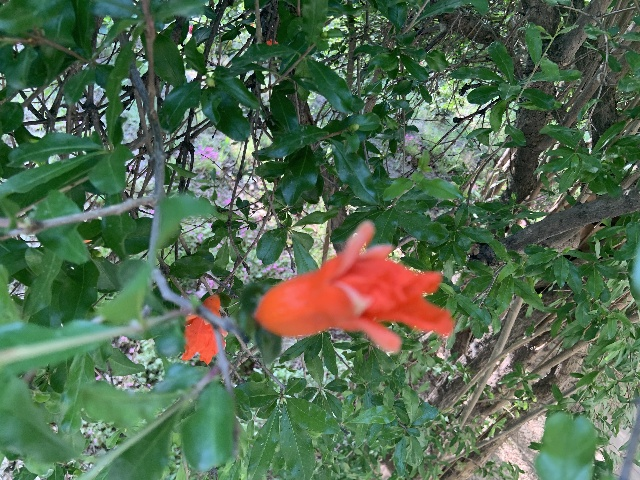flower: (254, 221, 453, 353), (181, 293, 227, 364)
